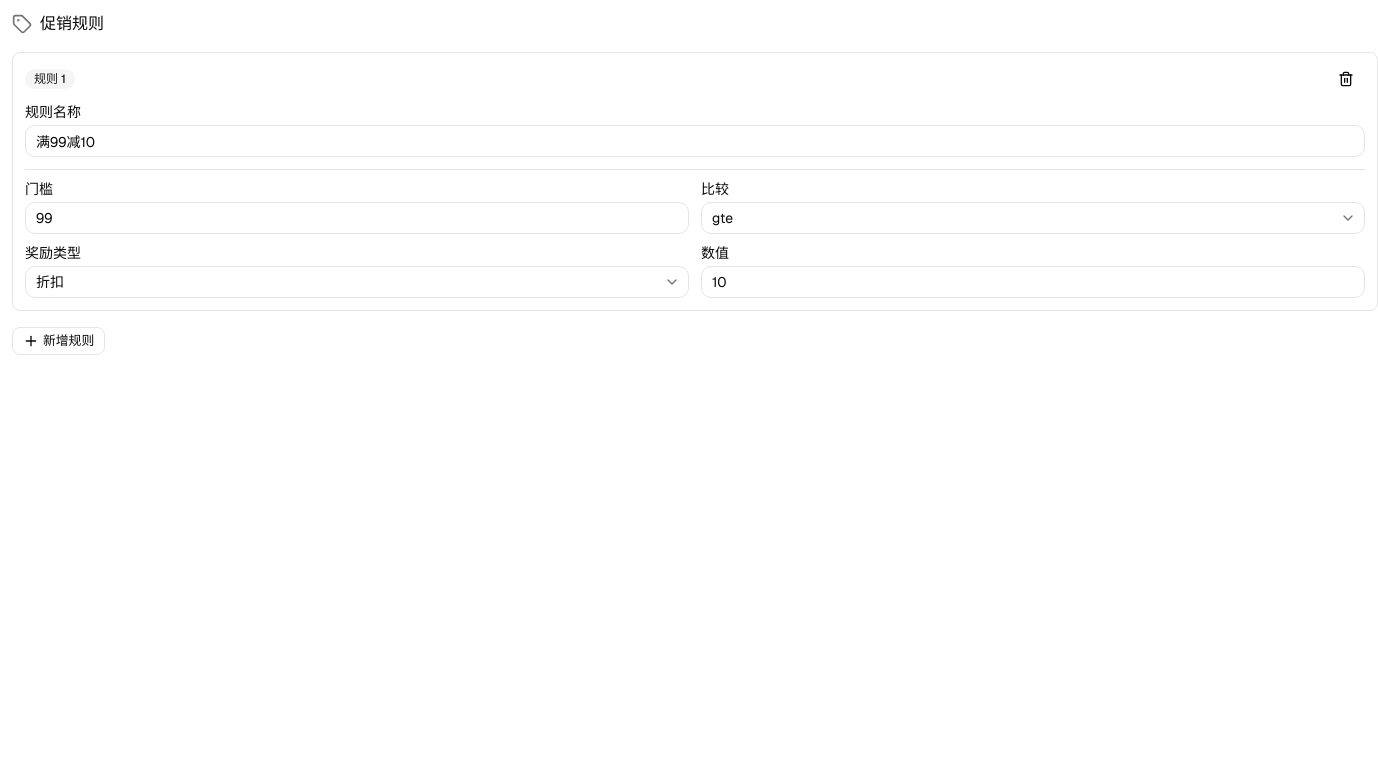
PromotionRuleEditor › shows one rule index badge per rule after adding multiple
Click the button "新增规则". click: coordinates (59, 341)
box: x1=12 y1=327 x2=105 y2=355
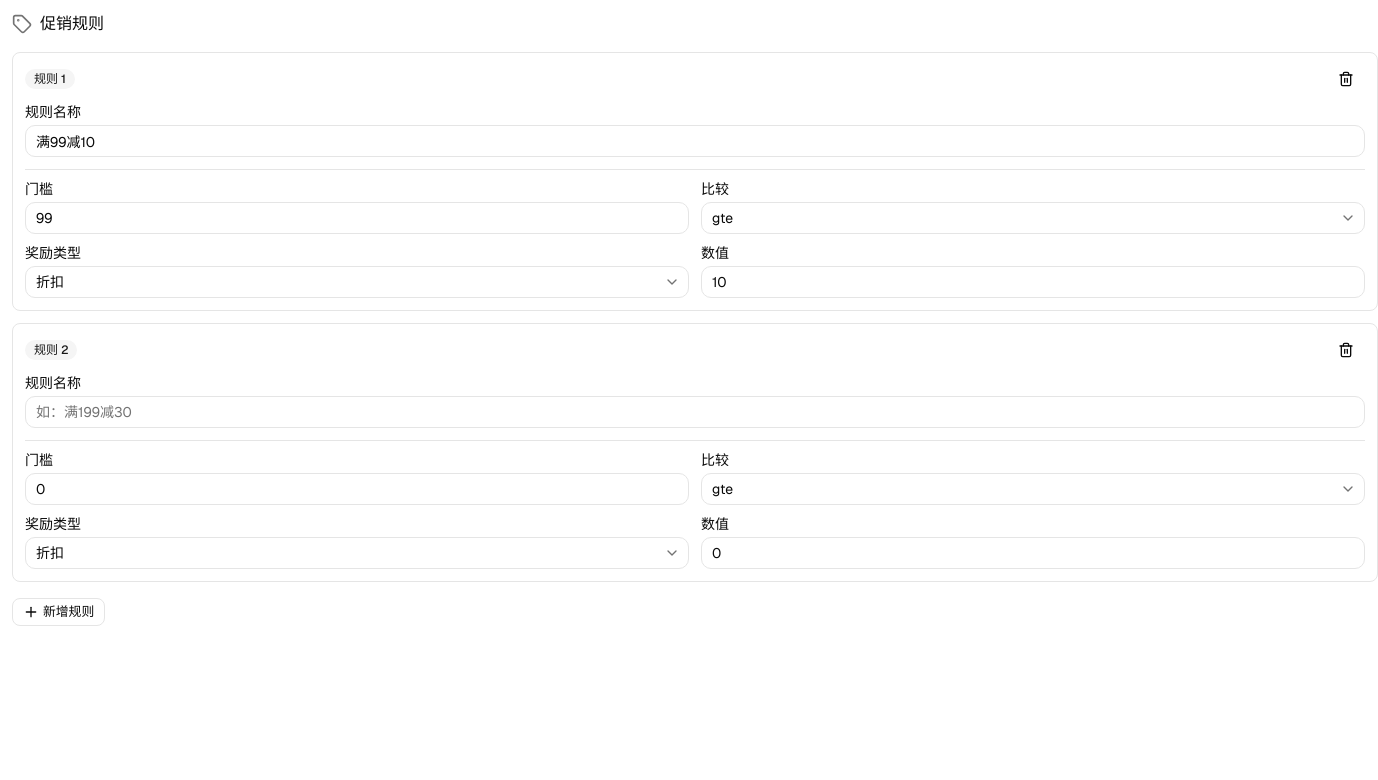
Click the button "新增规则". click: coordinates (59, 612)
box: x1=12 y1=598 x2=105 y2=626
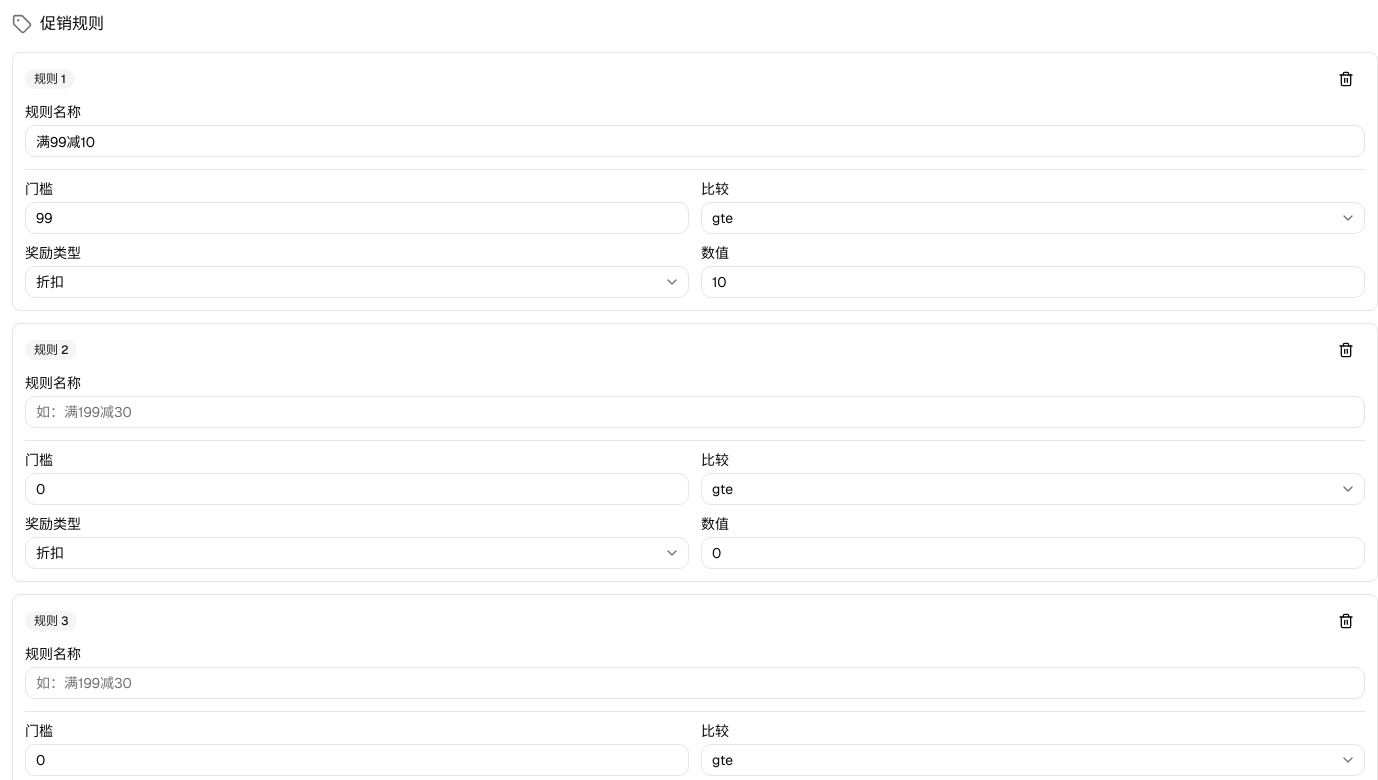
Check: the icon "规则 1" is shown, box x1=25 y1=69 x2=75 y2=89
Check: the icon "规则 2" is shown, box x1=25 y1=340 x2=78 y2=360
Check: the icon "规则 3" is shown, box x1=25 y1=611 x2=77 y2=631
